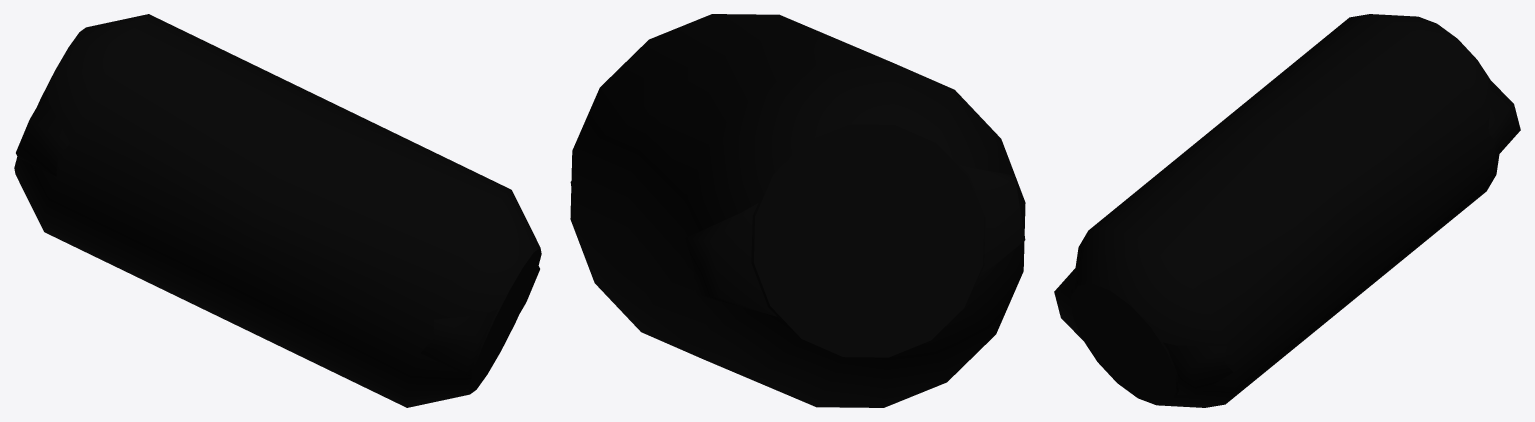
Rendered from hgn_collectable_loot_05.glb.
3 renders of one model, left to right at view 1: azimuth 30°, elevation 25°; view 2: azimuth 150°, elevation 25°; view 3: azimuth 270°, elevation 25°, orthographic. The views are drawn at different scales.
Parts seen in each view (by area): view 1: loot_container_03b; view 2: loot_container_03b; view 3: loot_container_03b.
Boxes of the visible parts, x1,y1,x2,y2 form: loot_container_03b: [14, 14, 541, 407]; loot_container_03b: [570, 14, 1025, 407]; loot_container_03b: [1054, 14, 1520, 407].
Size of the model in its own units: 0.8963 by 0.6769 by 0.9458.
Materials: 1 (1 with a texture image).
